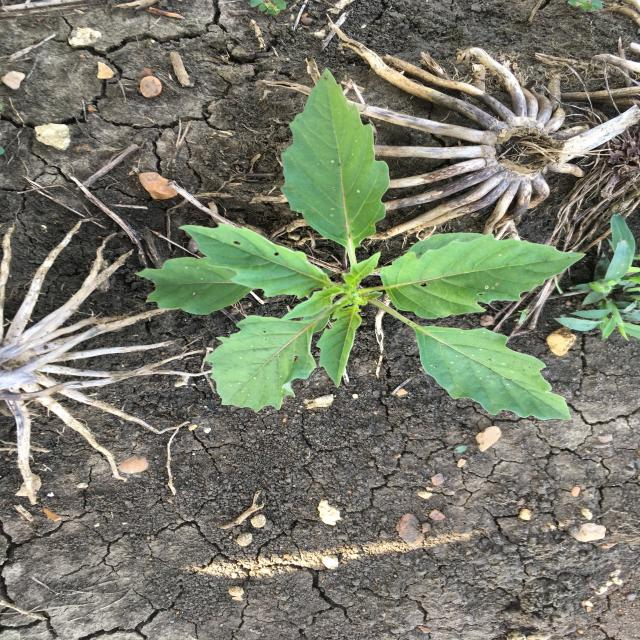CutleafGroundcherry: (132, 63, 590, 427)
